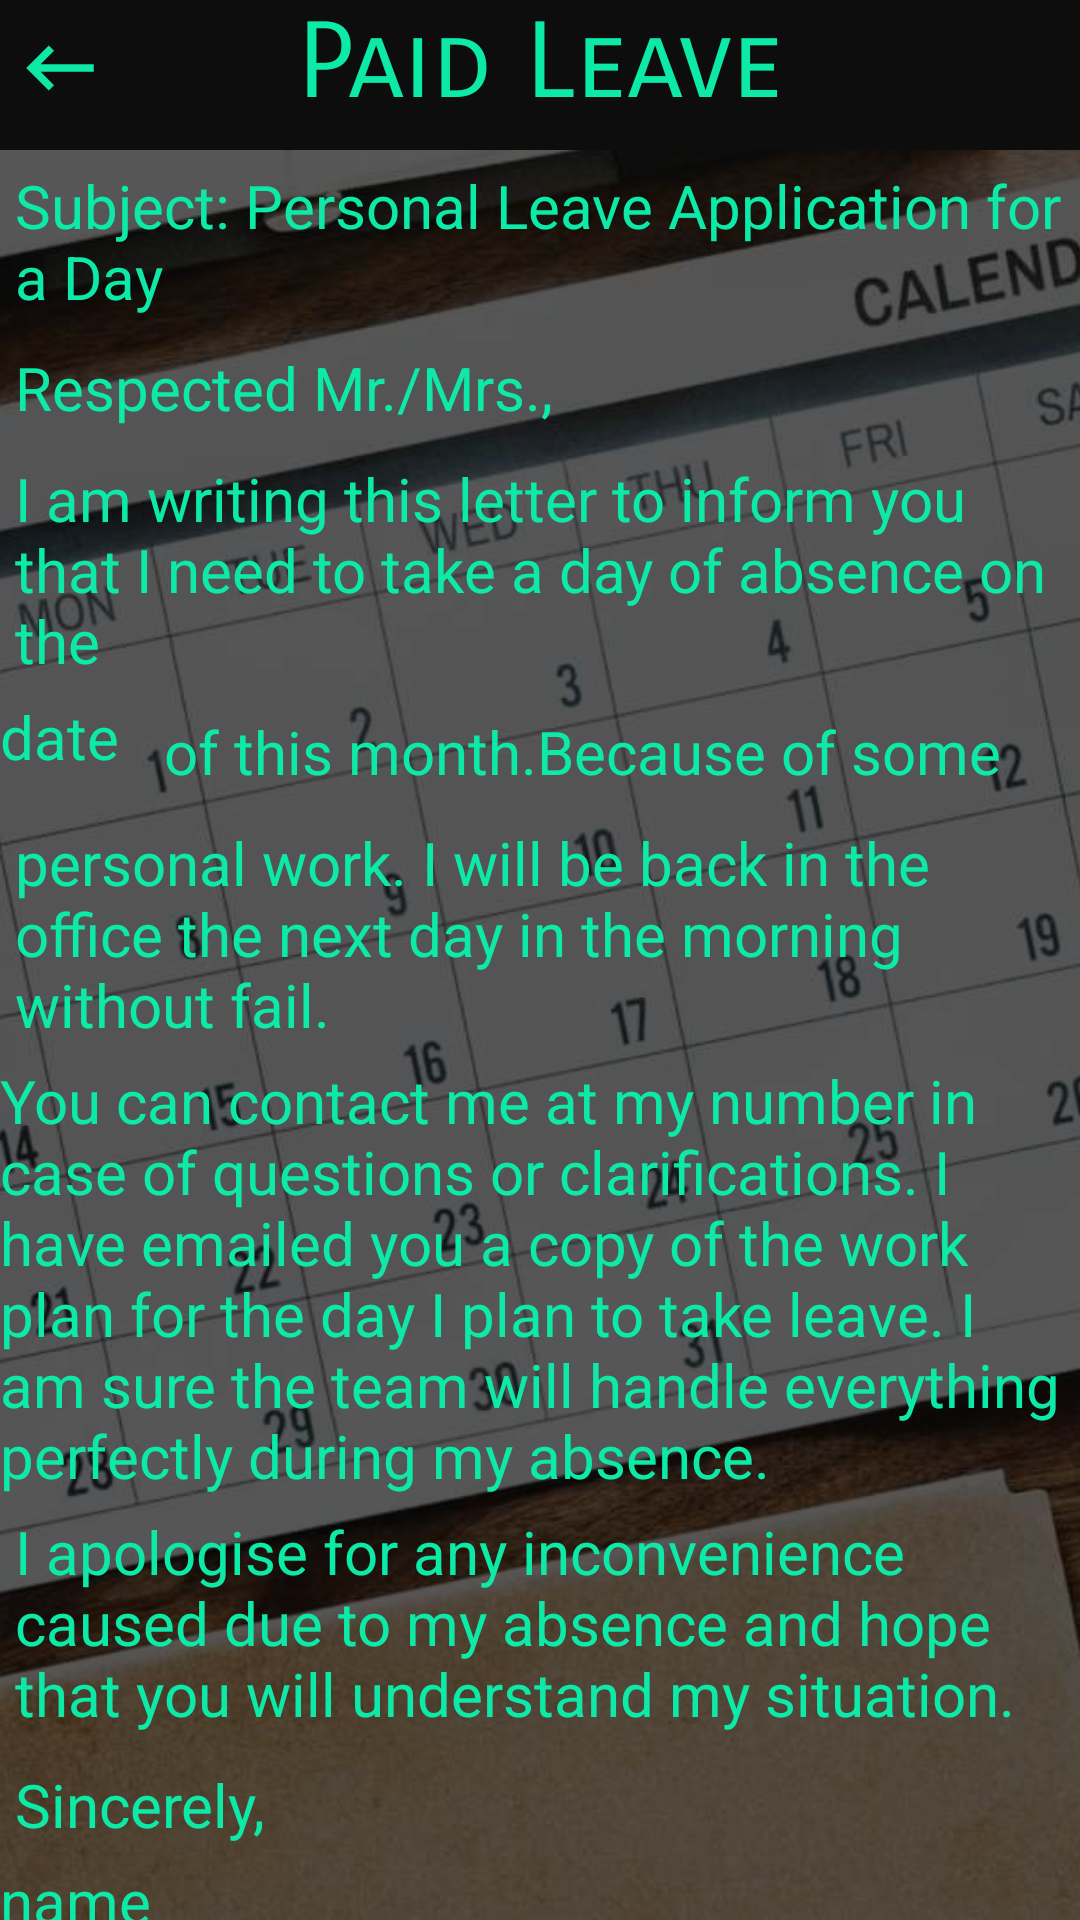

Where to tap for icons on this 1080 x 1920 app screen, as (x=x, y=y):
back: (x=60, y=68)
